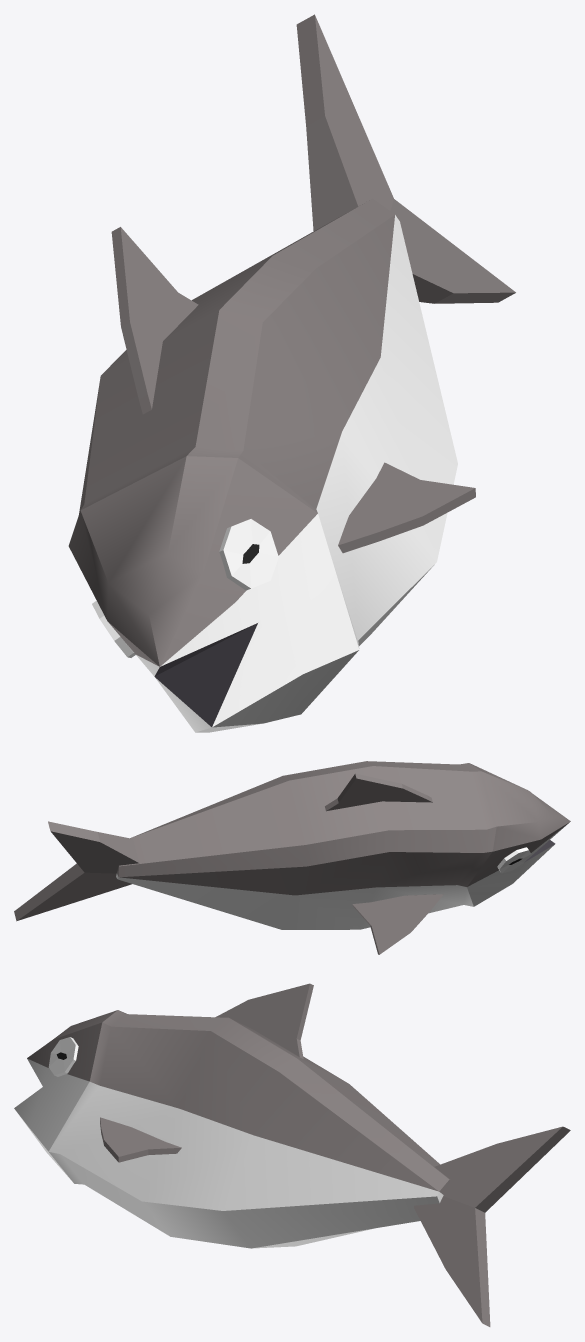
File: urp 3.fbx
3 views of the same model, one above another, from view 1: azimuth 30°, elevation 25°; view 2: azimuth 150°, elevation 25°; view 3: azimuth 270°, elevation 25° (orthographic). The views are drawn at different scales.
Parts seen in each view (by area): view 1: urp 3; view 2: urp 3; view 3: urp 3.
Boxes of the visible parts, box(x1,y1,x2,y2) form: urp 3: box(68, 14, 515, 732); urp 3: box(14, 761, 570, 954); urp 3: box(14, 983, 570, 1326).
Bounding box in the file's own units: 99.86 × 52 × 109.
